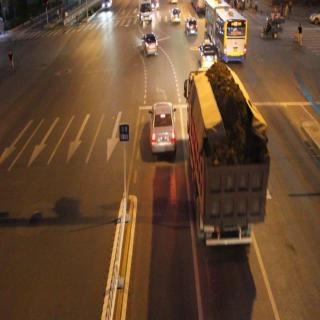BigCar: (185, 65, 270, 248), (204, 0, 246, 57), (137, 0, 152, 23)
Car: (150, 102, 177, 154), (198, 40, 216, 67), (141, 33, 158, 58), (185, 15, 198, 37), (170, 5, 181, 23)
